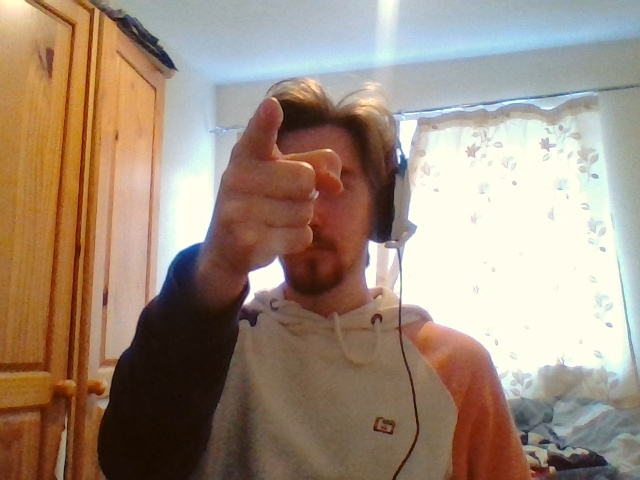you: (217, 97, 343, 263)
